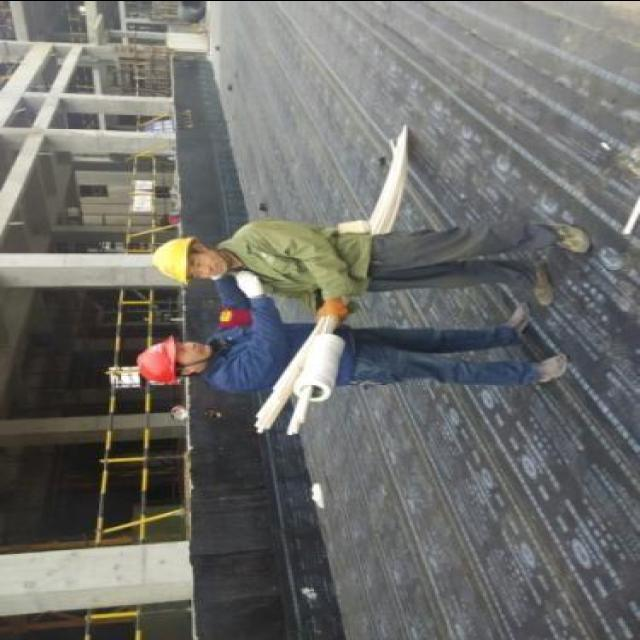helmet: (134, 331, 188, 389), (154, 228, 197, 290)
